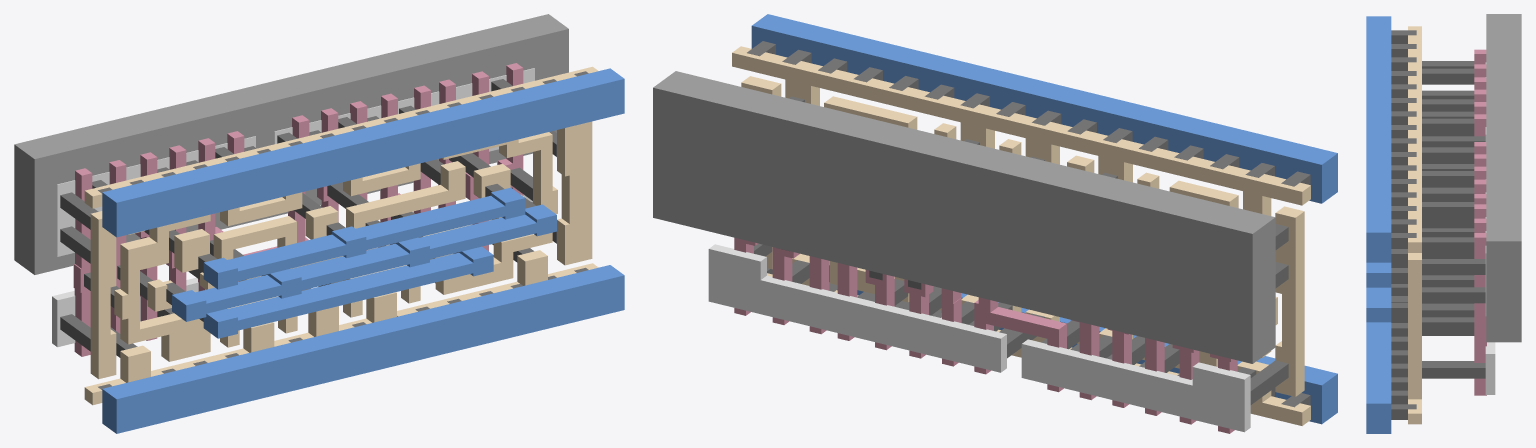
The model's file is sky130_fd_sc_hd__fa_1.gds.gltf.
3 views of the same model, side by side, from view 1: azimuth 30°, elevation 25°; view 2: azimuth 150°, elevation 25°; view 3: azimuth 270°, elevation 25° (orthographic). The views are drawn at different scales.
Visible parts, largest first — view 1: sky130_fd_sc_hd__fa_1_met1, sky130_fd_sc_hd__fa_1_li1, sky130_fd_sc_hd__fa_1_nwell, sky130_fd_sc_hd__fa_1_poly, sky130_fd_sc_hd__fa_1_licon, sky130_fd_sc_hd__fa_1_diff, sky130_fd_sc_hd__fa_1_mcon; view 2: sky130_fd_sc_hd__fa_1_nwell, sky130_fd_sc_hd__fa_1_li1, sky130_fd_sc_hd__fa_1_diff, sky130_fd_sc_hd__fa_1_met1, sky130_fd_sc_hd__fa_1_poly, sky130_fd_sc_hd__fa_1_licon, sky130_fd_sc_hd__fa_1_mcon; view 3: sky130_fd_sc_hd__fa_1_licon, sky130_fd_sc_hd__fa_1_nwell, sky130_fd_sc_hd__fa_1_met1, sky130_fd_sc_hd__fa_1_mcon, sky130_fd_sc_hd__fa_1_li1, sky130_fd_sc_hd__fa_1_poly, sky130_fd_sc_hd__fa_1_diff.
Part boxes in pixels (<box>): sky130_fd_sc_hd__fa_1_met1: <box>102,68,624,433</box>; sky130_fd_sc_hd__fa_1_li1: <box>84,66,598,405</box>; sky130_fd_sc_hd__fa_1_nwell: <box>14,14,568,274</box>; sky130_fd_sc_hd__fa_1_poly: <box>73,63,523,356</box>; sky130_fd_sc_hd__fa_1_licon: <box>60,79,556,357</box>; sky130_fd_sc_hd__fa_1_diff: <box>52,68,534,347</box>; sky130_fd_sc_hd__fa_1_mcon: <box>98,71,588,389</box>; sky130_fd_sc_hd__fa_1_nwell: <box>653,71,1275,363</box>; sky130_fd_sc_hd__fa_1_li1: <box>732,46,1310,425</box>; sky130_fd_sc_hd__fa_1_diff: <box>708,244,1250,432</box>; sky130_fd_sc_hd__fa_1_met1: <box>751,14,1337,424</box>; sky130_fd_sc_hd__fa_1_poly: <box>734,237,1237,433</box>; sky130_fd_sc_hd__fa_1_licon: <box>754,96,1288,404</box>; sky130_fd_sc_hd__fa_1_mcon: <box>747,41,1310,407</box>; sky130_fd_sc_hd__fa_1_licon: <box>1422,61,1485,378</box>; sky130_fd_sc_hd__fa_1_nwell: <box>1486,14,1521,342</box>; sky130_fd_sc_hd__fa_1_met1: <box>1366,16,1391,433</box>; sky130_fd_sc_hd__fa_1_mcon: <box>1391,30,1416,419</box>; sky130_fd_sc_hd__fa_1_li1: <box>1408,26,1421,424</box>; sky130_fd_sc_hd__fa_1_poly: <box>1474,49,1486,395</box>; sky130_fd_sc_hd__fa_1_diff: <box>1485,62,1495,394</box>.
Bounding box in the file's own units: 7.74 × 3.2 × 2.24.
